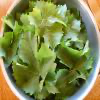grape leaf: (13, 31, 55, 93), (58, 40, 94, 84), (31, 3, 62, 45)
